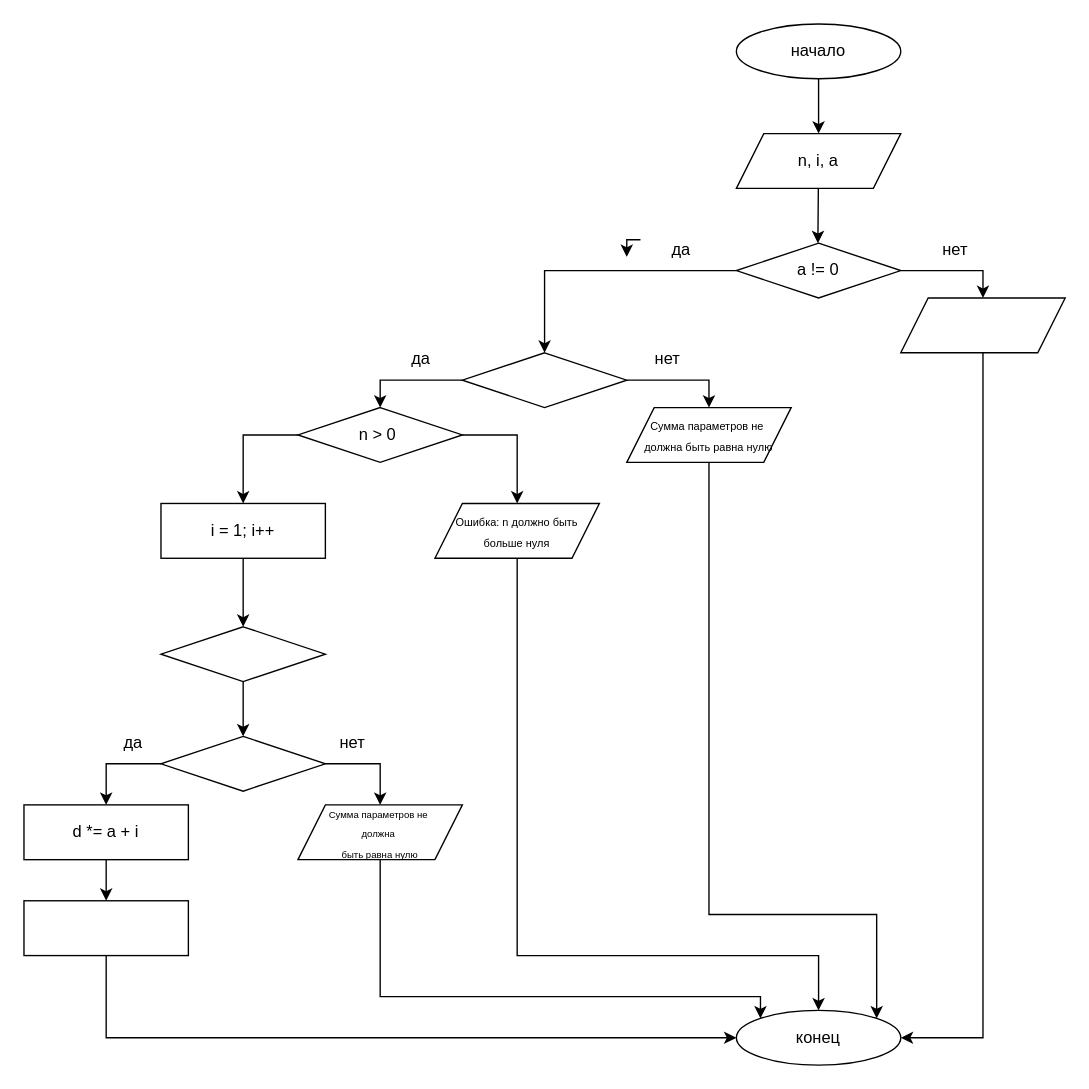
The diagram is 1089 pixels wide and 1089 high, and some of its shapes have lost their labels. Here are the shapes that lost their labels. From the top down, the box of each, then its label:
(899, 297, 1065, 353): Параметр а не должен быть равен нулю
(461, 351, 627, 408): a + n != 0
(160, 625, 325, 682): i <= n
(160, 735, 325, 791): a + i != 0
(23, 899, 188, 956): res += 1 / d
